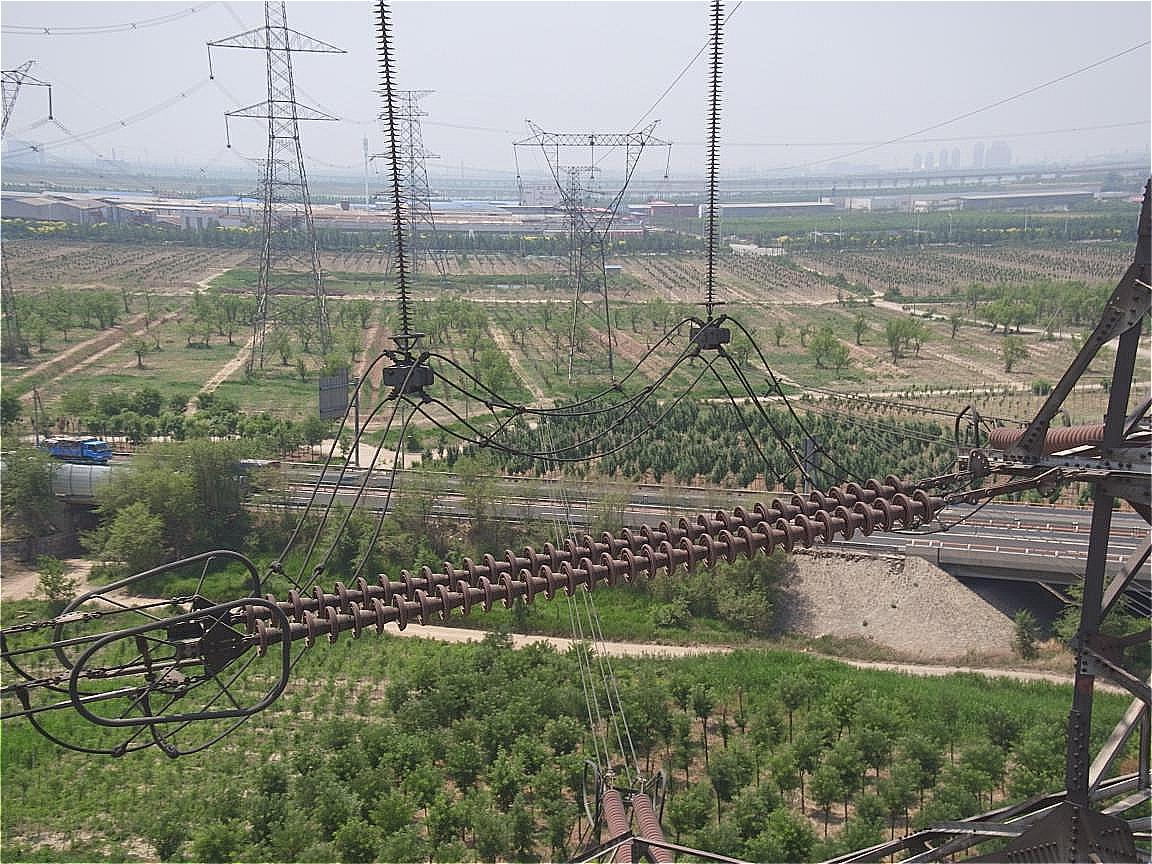insultor1: (170, 475, 968, 666)
